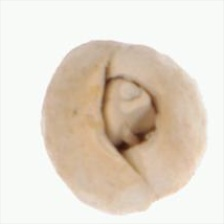L3: (92, 72, 160, 158)
L4: (42, 40, 208, 215)
